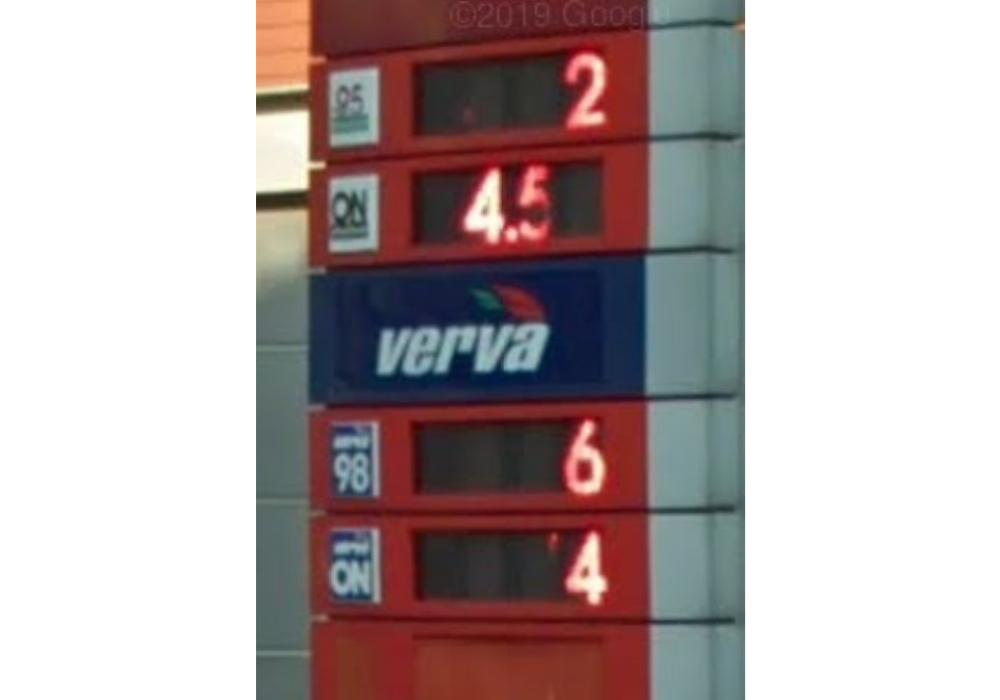ON: (322, 169, 379, 253), (324, 526, 382, 604)
PB95: (324, 66, 383, 149)
PB98: (326, 416, 379, 502)
